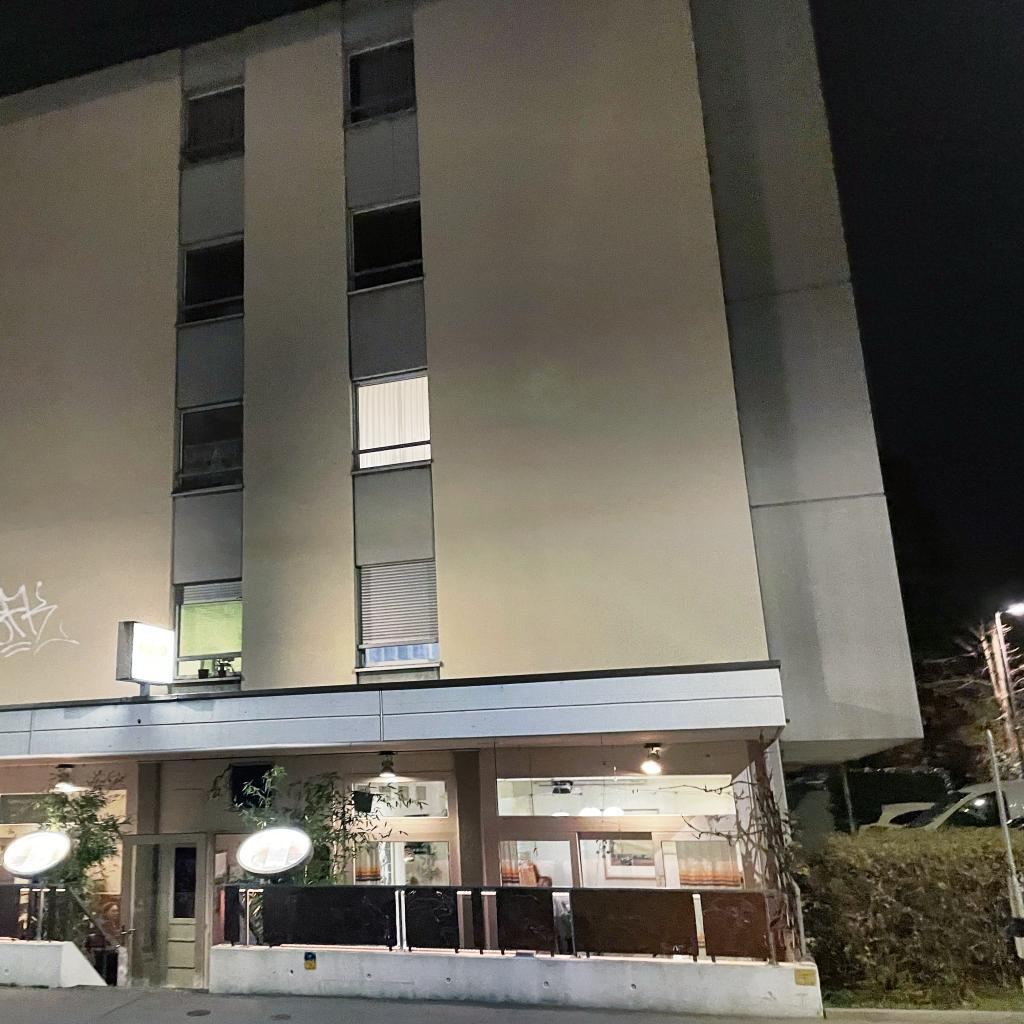car: (907, 778, 1024, 828), (857, 801, 938, 834)
facade: (0, 0, 926, 988)
fence: (207, 877, 823, 1017), (0, 881, 130, 986)
street: (0, 985, 1024, 1024)
traffic-infrastructure: (982, 726, 1024, 995), (993, 598, 1024, 770), (115, 620, 172, 696), (235, 825, 315, 879), (1, 829, 73, 880)
vegetation: (656, 730, 1019, 1010), (223, 764, 431, 882), (884, 617, 1024, 788), (23, 768, 134, 909), (1003, 623, 1024, 747), (1012, 829, 1024, 901)
window: (498, 830, 746, 890), (495, 773, 737, 817), (353, 558, 440, 667), (349, 368, 432, 470), (345, 194, 423, 292), (172, 578, 242, 683), (172, 398, 243, 493), (342, 37, 416, 125), (176, 231, 244, 324), (179, 86, 245, 170), (353, 841, 451, 885), (352, 781, 448, 818), (230, 761, 275, 809)
